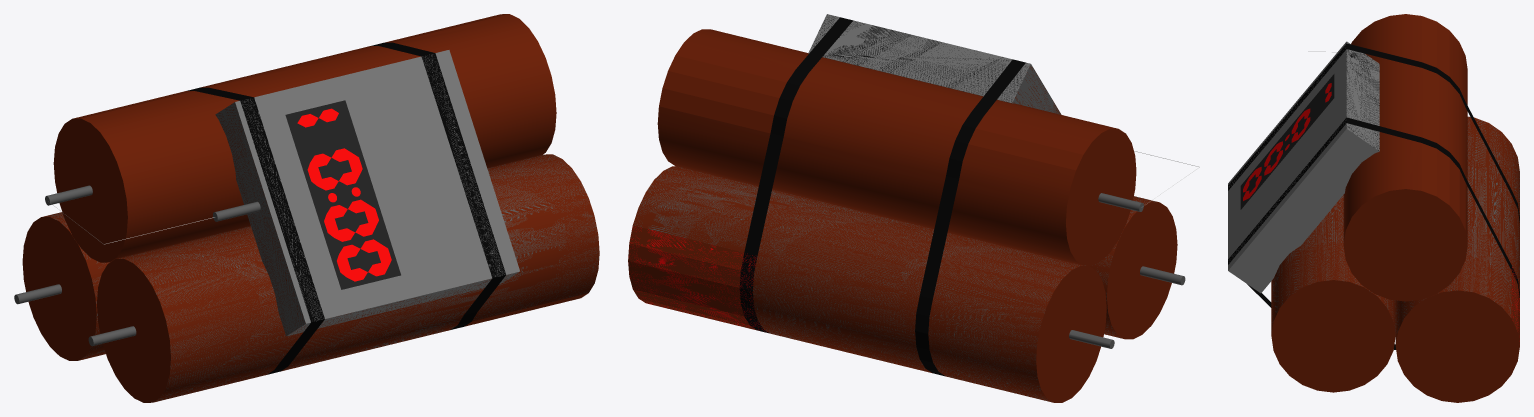
Rendered from dynamite.dae.
3 views of the same model, side by side, from view 1: azimuth 30°, elevation 25°; view 2: azimuth 150°, elevation 25°; view 3: azimuth 270°, elevation 25° (orthographic). The views are drawn at different scales.
Visible parts, largest first — view 1: dynamit (×22); view 2: dynamit (×16); view 3: dynamit (×19).
Boxes of the visible parts, x1,y1,x2,y2 form: dynamit (×22): (22,14,599,402); dynamit (×16): (628,14,1177,402); dynamit (×19): (1228,14,1519,402).
Size of the model in its own units: 8.71 by 5.55 by 4.85.
